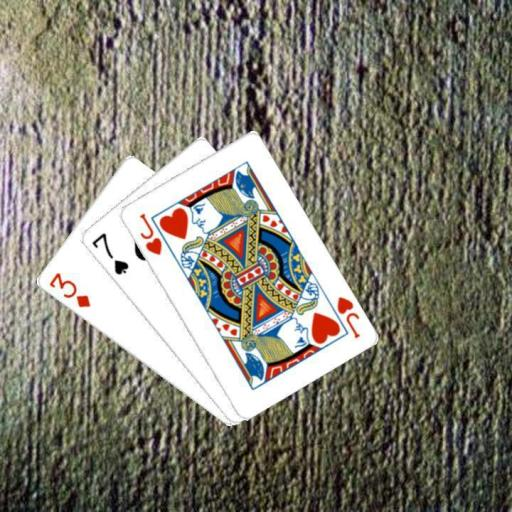card-corner: (88, 230, 130, 276), (46, 269, 92, 309), (333, 293, 361, 340), (136, 210, 163, 256)
